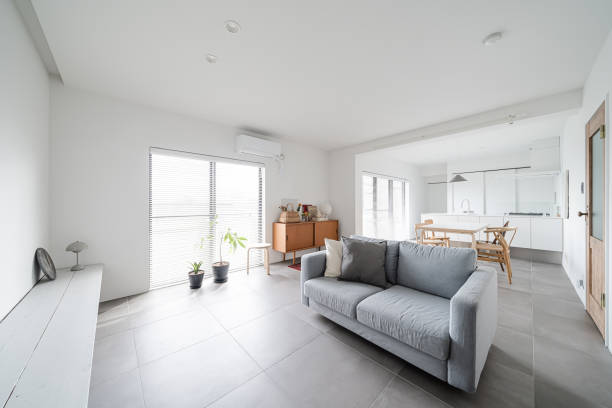dining table set: (412, 214, 516, 285)
large plant: (210, 222, 246, 282)
side table: (246, 241, 273, 276)
small plant: (184, 256, 205, 289)
sofa: (297, 232, 499, 395)
